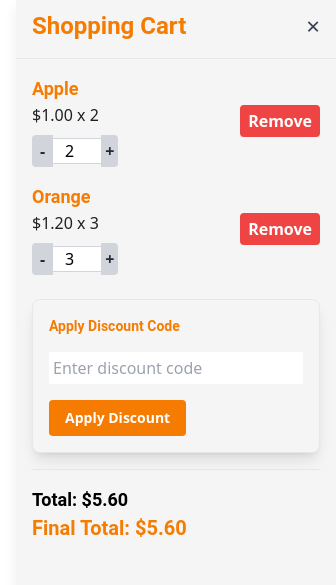
CartSidePanel › renders cart items and applies discount code
This screenshot has width=336, height=585.
expect the heading "Apple" is shown: met, box [32,78,78,99]
expect the heading "Orange" is shown: met, box [32,186,90,207]
Type "OVERALL10" into the field with placeholder "Enter discount code".
click(176, 368); type("OVERALL10")  # box [49,352,303,384]
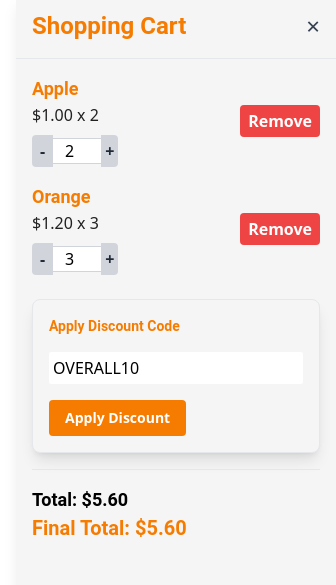
Click the button "Apply Discount".
click(118, 418)  # box [49,400,186,436]
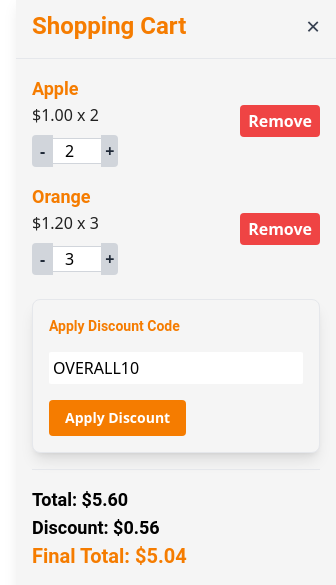
expect the heading "Discount: $0.56" is shown: met, box [32,517,160,538]
expect the heading "Final Total: $5.04" is shown: met, box [32,544,187,568]
